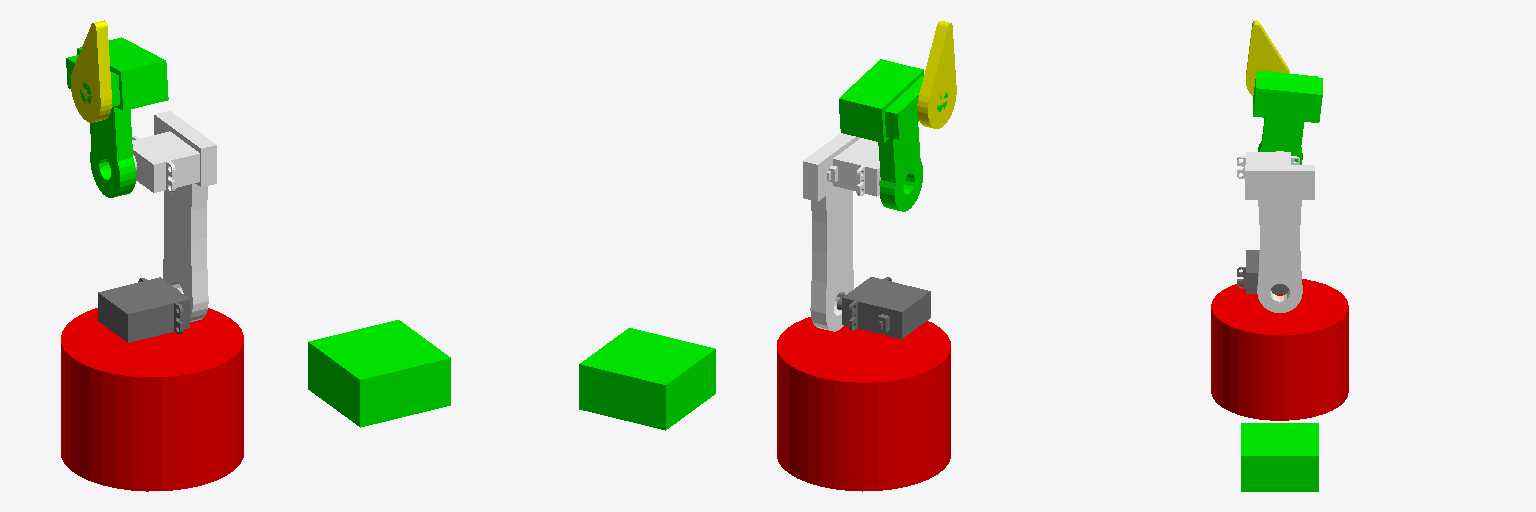
URDF robot description (arm):
<?xml version="1.0" encoding="utf-8"?>
<robot name="arm">
  <!-- 材质定义 -->
  <material name="red"><color rgba="1 0 0 1"/></material>
  <material name="grey"><color rgba="0.5 0.5 0.5 1"/></material>
  <material name="white"><color rgba="1 1 1 1"/></material>
  <material name="green"><color rgba="0 1 0 1"/></material>
  <material name="yellow"><color rgba="1 1 0 1"/></material>

  <link name="world"/>
  <joint name="world_fixed" type="fixed">
    <parent link="world"/>
    <child link="base_link"/>
    <origin xyz="0 0 0" rpy="0 0 0"/>
  </joint>

  <link name="base_link">
    <visual>
      <origin xyz="0 0 0" rpy="0 0 0" />
      <geometry><mesh filename="package://fishbot_description/meshes/base_link.STL" /></geometry>
      <material name="red"/>
    </visual>
    <!-- 蓝色标记块 -->
    <visual>
      <origin xyz="0.05 0 0.005" rpy="0 0 0" />
      <geometry><box size="0.02 0.02 0.01" /></geometry>
      <material name="green"/>
    </visual>
  </link>

  <link name="link1">
    <visual>
      <origin xyz="0 0 0" rpy="0 0 0" />
      <geometry><mesh filename="package://fishbot_description/meshes/link1.STL" /></geometry>
      <material name="grey"/>
    </visual>
  </link>

  <joint name="joint1" type="revolute">
    <origin xyz="0 0 0.024" rpy="0 0 1.5708" />
    <parent link="base_link" />
    <child link="link1" />
    <axis xyz="0 0 -1" />
    <limit lower="-3.14" upper="3.14" effort="10" velocity="3" />
  </joint>

  <link name="link2">
    <visual>
      <origin xyz="0 0 0" rpy="0 0 0" />
      <geometry><mesh filename="package://fishbot_description/meshes/link2.STL" /></geometry>
      <material name="white"/>
    </visual>
  </link>

  <joint name="joint2" type="revolute">
    <origin xyz="0 -0.0090485 0.008" rpy="1.5708 0 0" />
    <parent link="link1" />
    <child link="link2" />
    <axis xyz="0 0 -1" />
    <limit lower="-3.14" upper="3.14" effort="10" velocity="3" />
  </joint>

  <link name="link3">
    <visual>
      <origin xyz="0 0 0" rpy="0 0 0" />
      <geometry><mesh filename="package://fishbot_description/meshes/link3.STL" /></geometry>
      <material name="green"/>
    </visual>
  </link>

  <joint name="joint3" type="revolute">
    <origin xyz="0 0.030167 -0.01945" rpy="-3.1416 0 3.1416" />
    <parent link="link2" />
    <child link="link3" />
    <axis xyz="0 0 -1" />
    <limit lower="-3.14" upper="3.14" effort="10" velocity="3" />
  </joint>

  <link name="link4">
    <visual>
      <origin xyz="0 0 0" rpy="0 0 0" />
      <geometry><mesh filename="package://fishbot_description/meshes/link4.STL" /></geometry>
      <material name="yellow"/>
    </visual>
  </link>

  <joint name="joint4" type="revolute">
    <origin xyz="0.002964 0.018445 0.006" rpy="0 0 0" />
    <parent link="link3" />
    <child link="link4" />
    <axis xyz="0 0 1" />
    <limit lower="-3.14" upper="3.14" effort="10" velocity="3" />
  </joint>
</robot>

--- Facts derived from the render (not from the file) ---
Views: 3 orthographic renders of the robot side by side, from view 1: azimuth 30°, elevation 25°; view 2: azimuth 150°, elevation 25°; view 3: azimuth 270°, elevation 25°.
Model arm with 6 links and 5 joints (4 revolute, 1 fixed), rooted at world, posed every joint at zero.
Visible links, largest first — view 1: base_link, link2, link3, link1, link4; view 2: base_link, link2, link3, link1, link4; view 3: base_link, link2, link3, link4, link1.
Boxes of the visible links, x1,y1,x2,y2 form: base_link: (61,308,450,491); link2: (132,111,216,321); link3: (66,37,168,197); link1: (98,277,189,342); link4: (71,20,111,122); base_link: (579,317,950,491); link2: (803,133,880,331); link3: (839,59,947,211); link1: (837,277,930,338); link4: (917,21,956,128); base_link: (1211,279,1348,491); link2: (1237,152,1314,312); link3: (1253,71,1322,164); link4: (1246,20,1289,95); link1: (1237,250,1288,293).
Bounding box of the posed robot: 0.0775 × 0.035 × 0.0965 m (x, y, z).
Meshes: 5 distinct files referenced, 5 mesh visuals loaded (5 binary STL).
